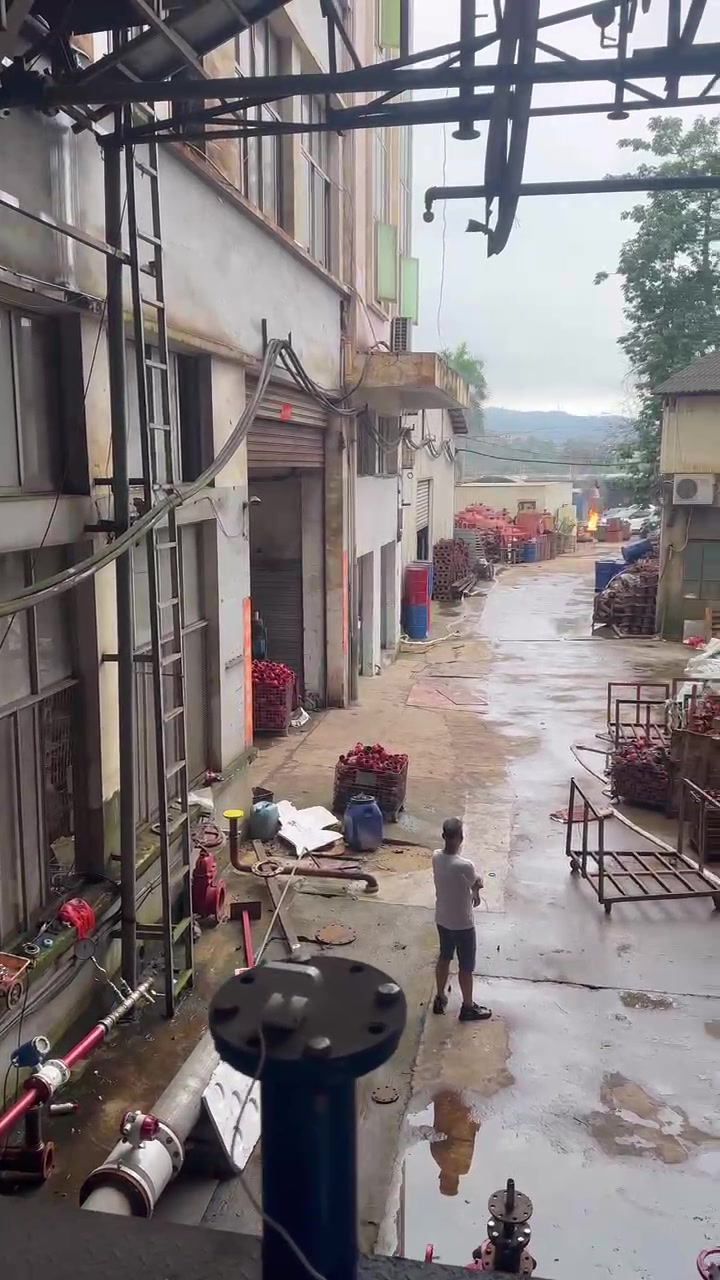fire: (587, 504, 598, 530)
